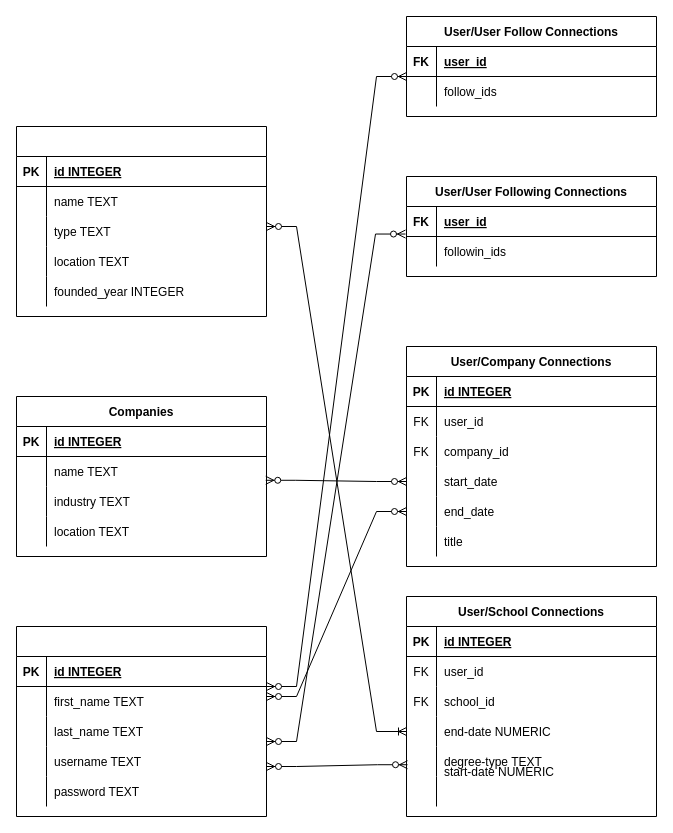
The diagram is 673 pixels wide and 833 high, and some of its shapes have lost their labels. Here are the shapes that lost their labels. From the top down, the box of each, then its label:
(16, 126, 266, 316): Schools
(16, 626, 266, 816): Users
